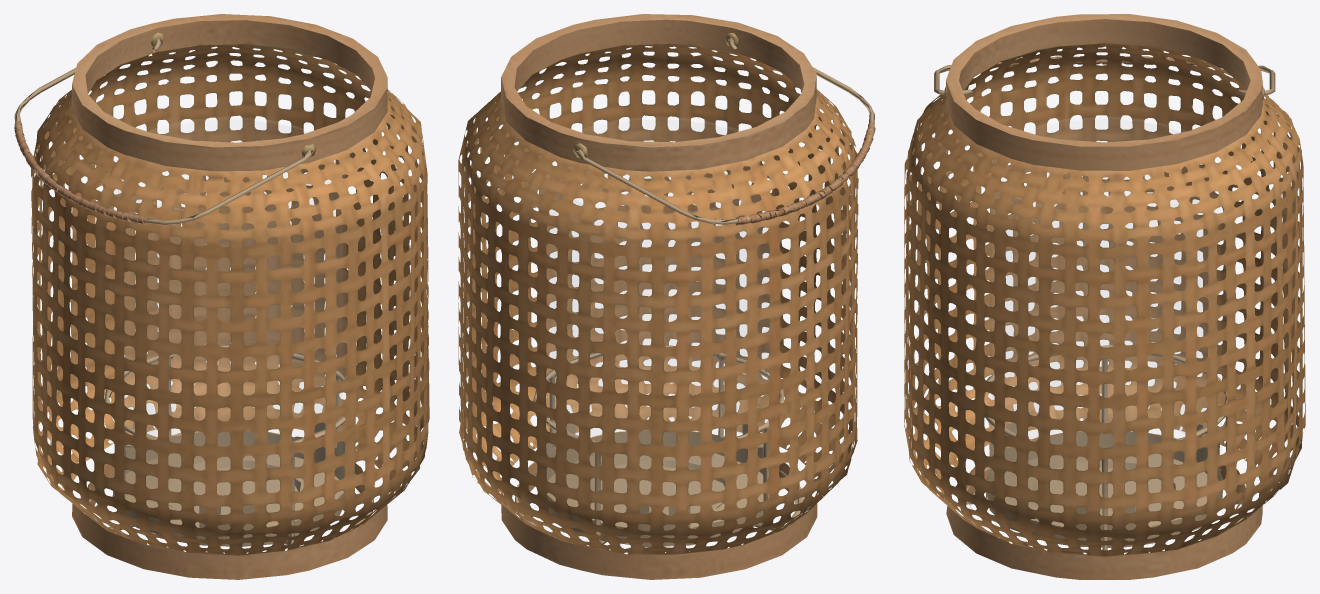
The model's file is 09 - PÅVEFINK Lantern for pillar candle - bamboo 25 cm.glb.
The picture shows the model from 3 angles, left to right: view 1: azimuth 30°, elevation 25°; view 2: azimuth 150°, elevation 25°; view 3: azimuth 270°, elevation 25°; orthographic projection.
Visible parts, largest first — view 1: ASY_ART_60609976_S01_NV01; view 2: ASY_ART_60609976_S01_NV01; view 3: ASY_ART_60609976_S01_NV01.
Boxes of the visible parts, bbox=[...] form: ASY_ART_60609976_S01_NV01: bbox=[14, 14, 429, 579]; ASY_ART_60609976_S01_NV01: bbox=[458, 14, 875, 579]; ASY_ART_60609976_S01_NV01: bbox=[904, 14, 1305, 579].
Size of the model in its own units: 0.2082 by 0.2455 by 0.2059.
2 materials, 2 textured.
